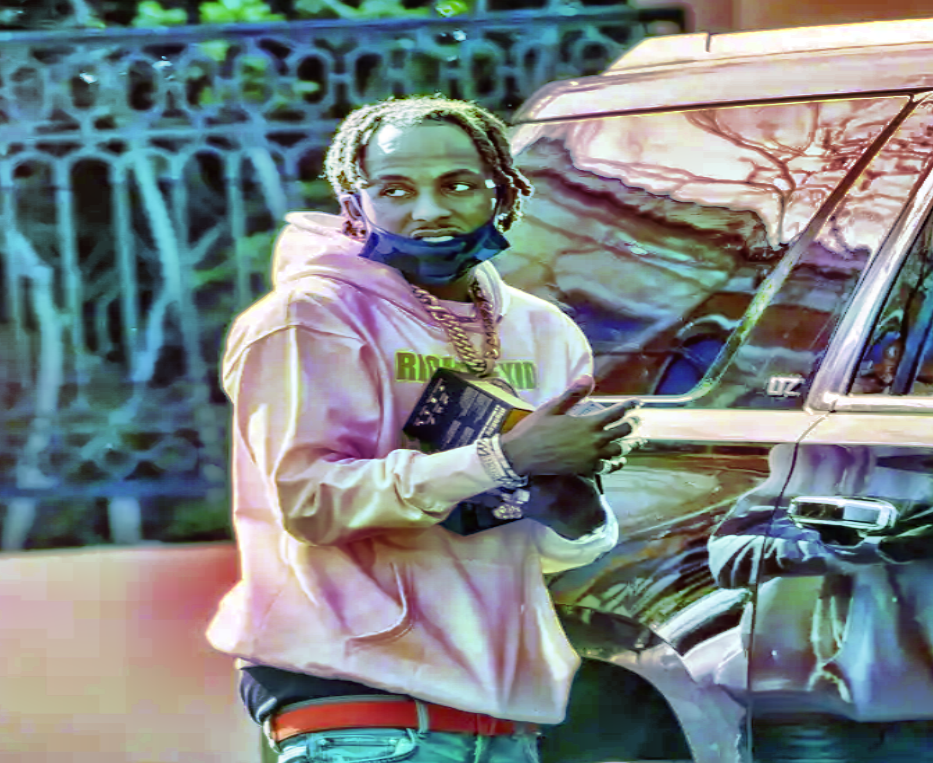mask_weared_incorrect: (326, 97, 529, 288)
